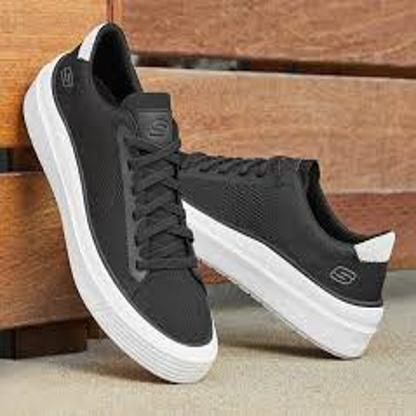not trash: (21, 22, 218, 384), (164, 150, 402, 363)
